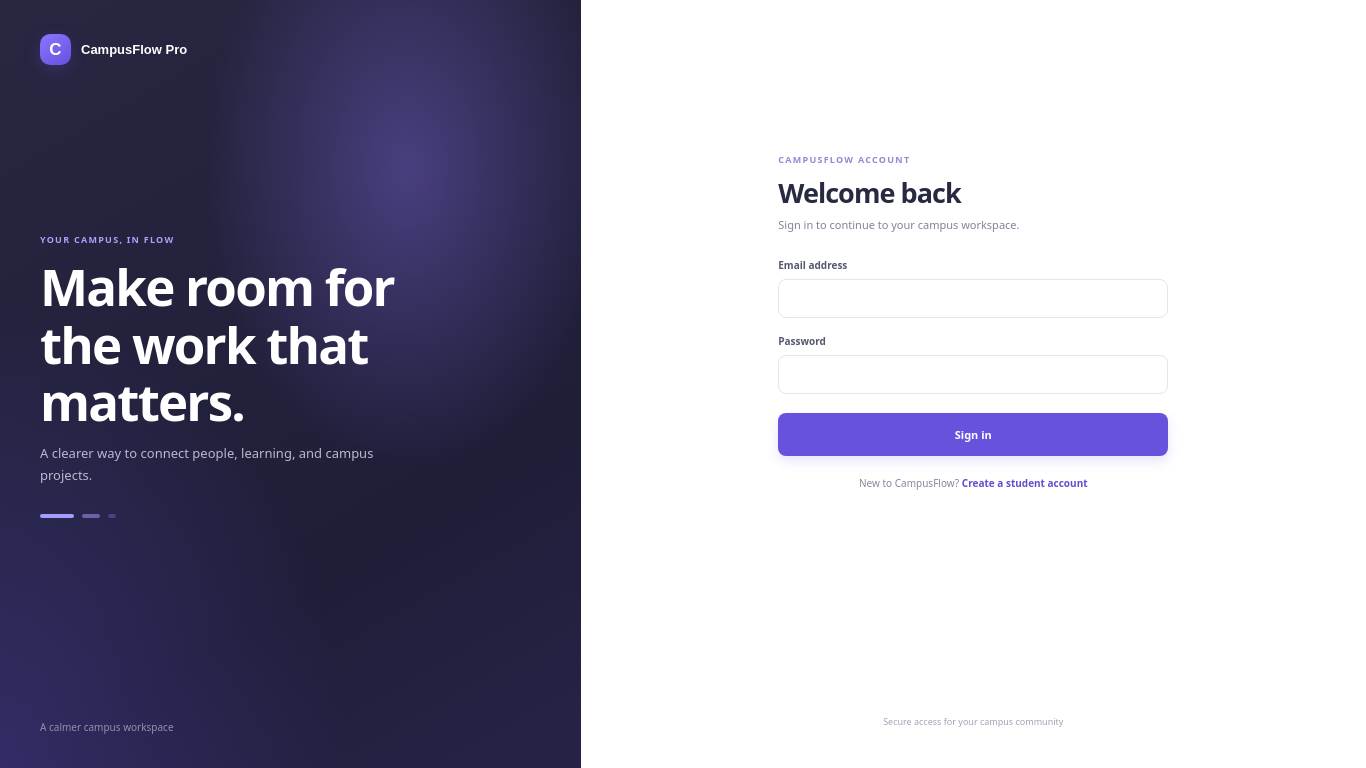
Test: authentication pages and session › logs in, shows navigation for the user's role, and logs out
This screenshot has width=1366, height=768.
Type "asha@example.edu" into the field labelled "Email address" at [973, 298], box [778, 279, 1168, 318]
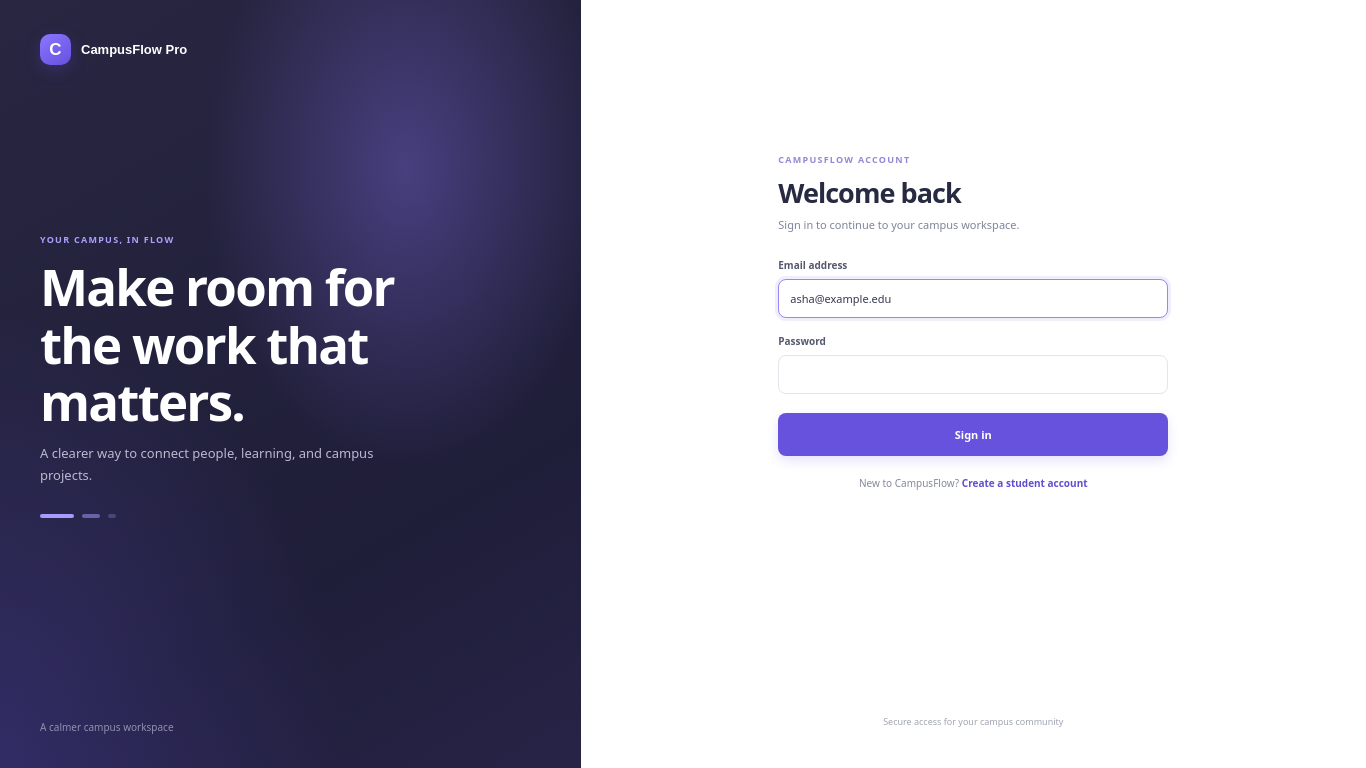
Type "campus-password" into the password field labelled "Password" at [973, 374], box [778, 355, 1168, 394]
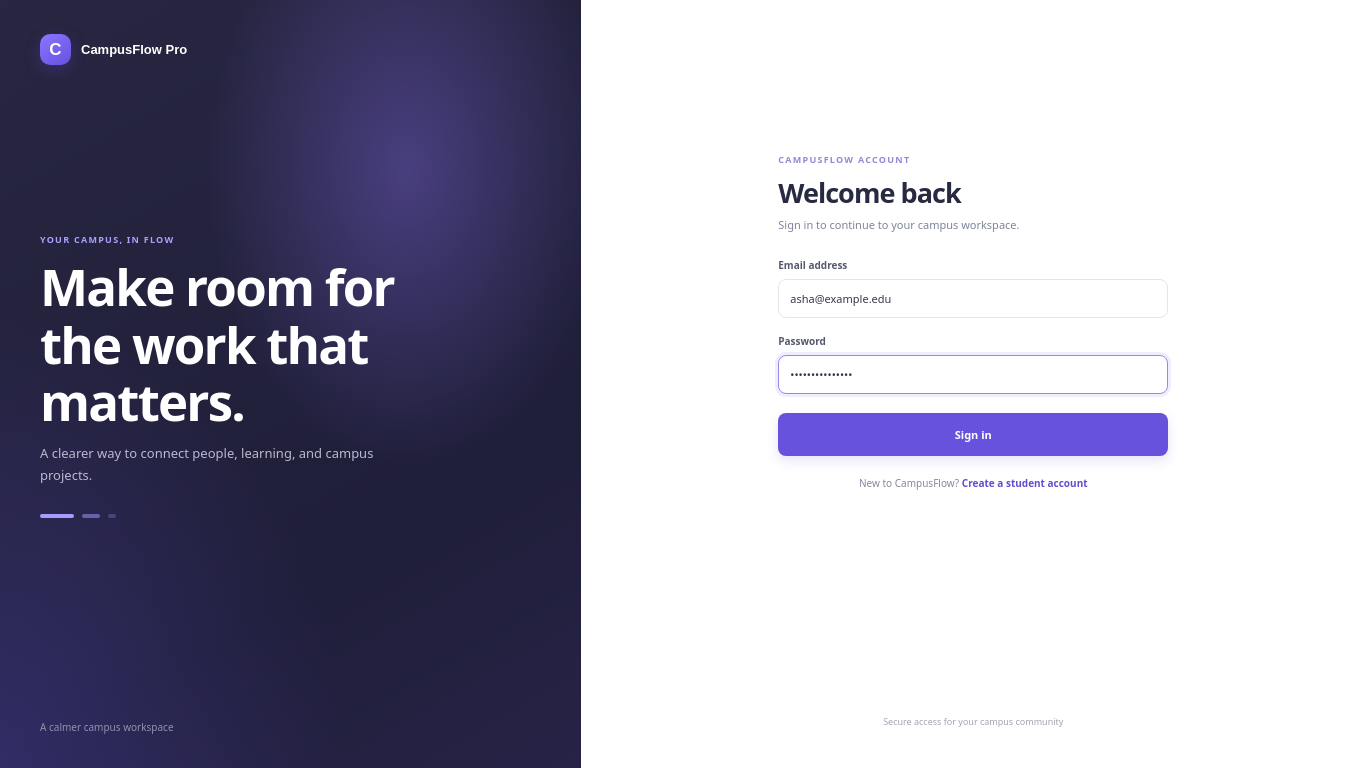
Click the button "Sign in" at [973, 434], box [778, 413, 1168, 456]
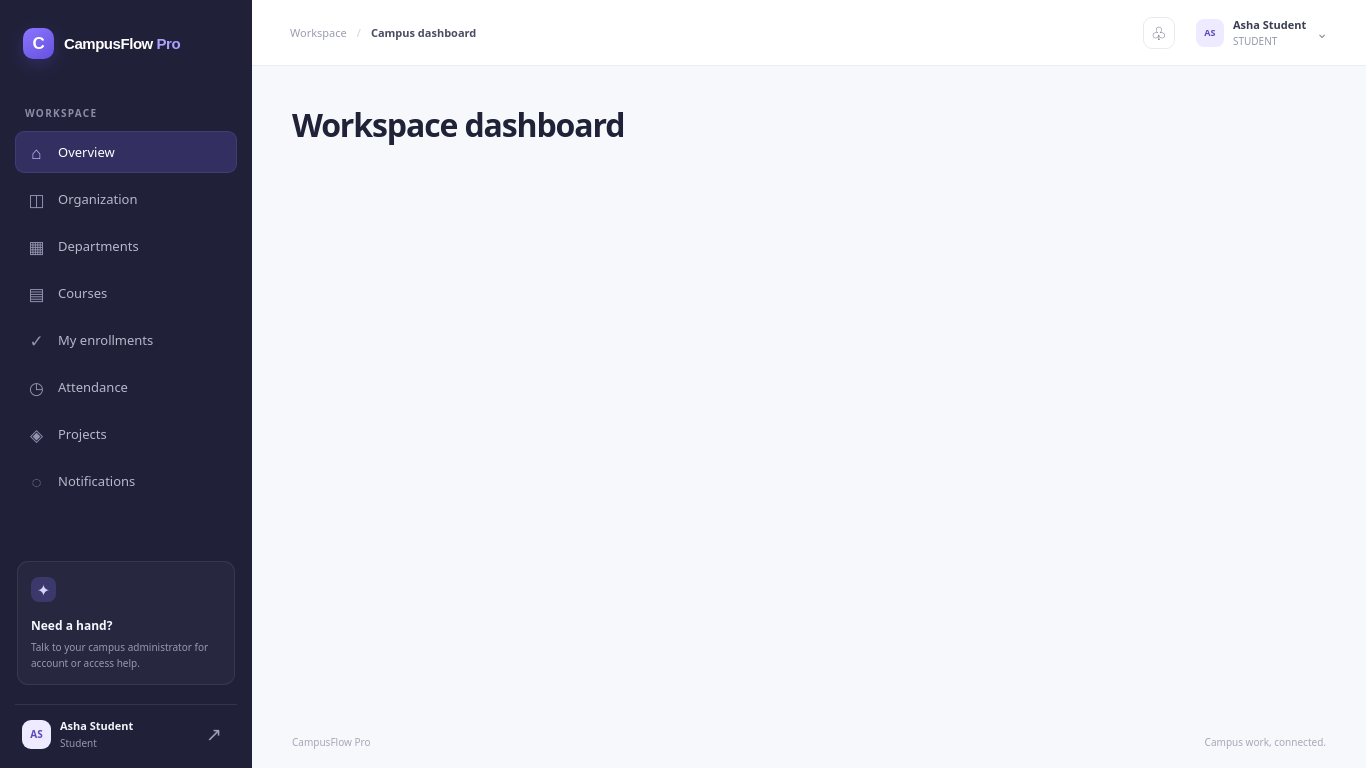
Result: the heading "Workspace dashboard" is shown at [292, 103, 624, 146]
Result: the link "✓ My enrollments" is shown at [29, 328, 153, 352]
Result: the text "people" is gone
Click the button named "Sign out" at [214, 734], box [198, 718, 230, 750]
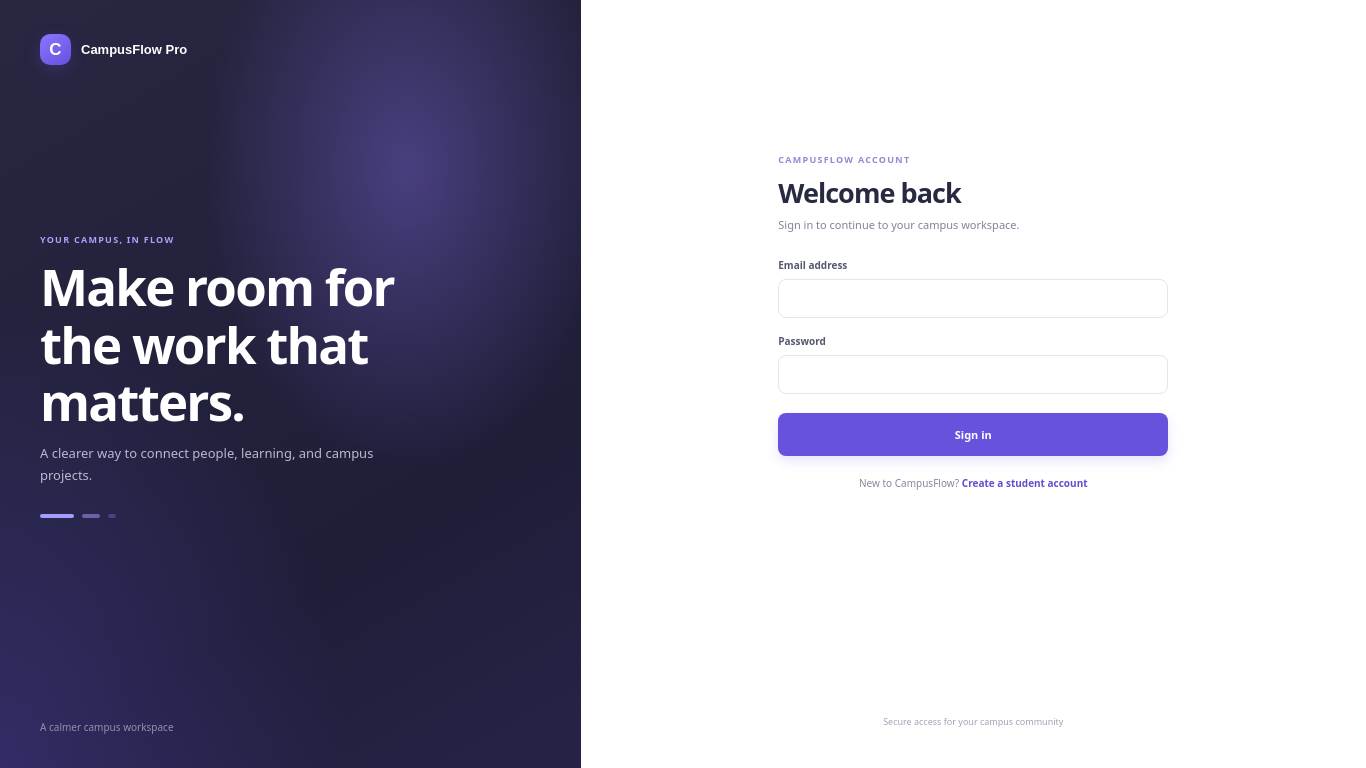
Result: the heading "Welcome back" is shown at [778, 174, 961, 211]
